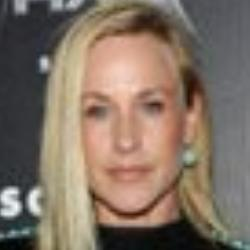face: (24, 2, 233, 229)
